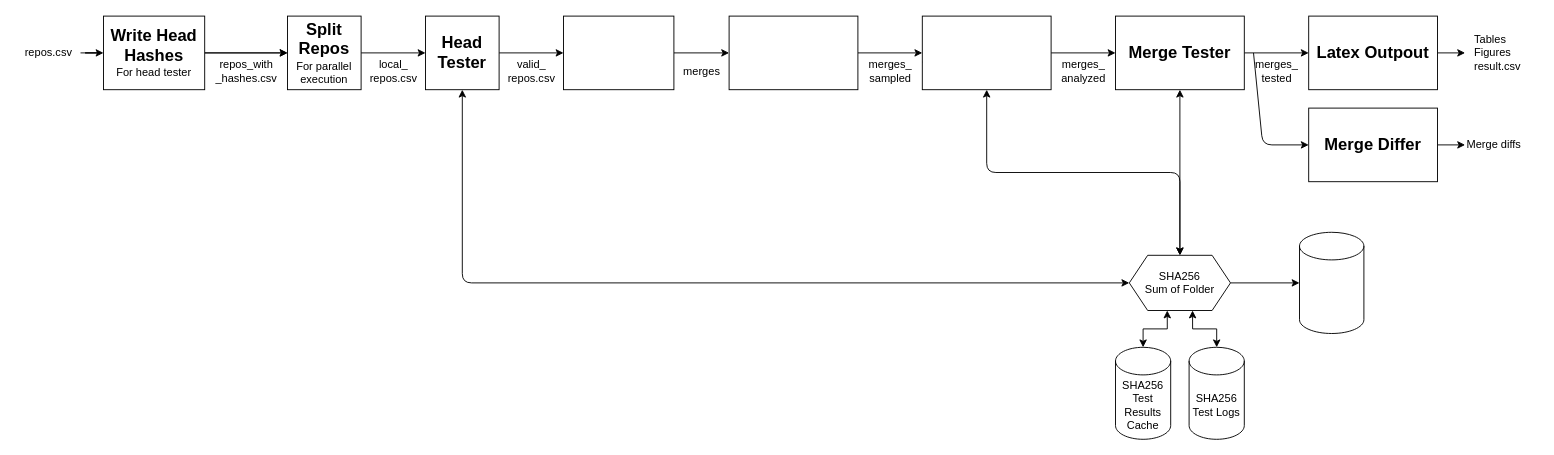
Image size: 1554x455. Some labels were removed from this diagram. Here are the shapes that lost their labels. From the top down, the box of each, then its label:
(563, 15, 674, 90): Find Merge Commits
(728, 15, 858, 90): Merge Sampler
(921, 15, 1051, 90): Merge Analyzer
(1299, 231, 1364, 334): SHA256 / Commit Conversion Translation Cache
